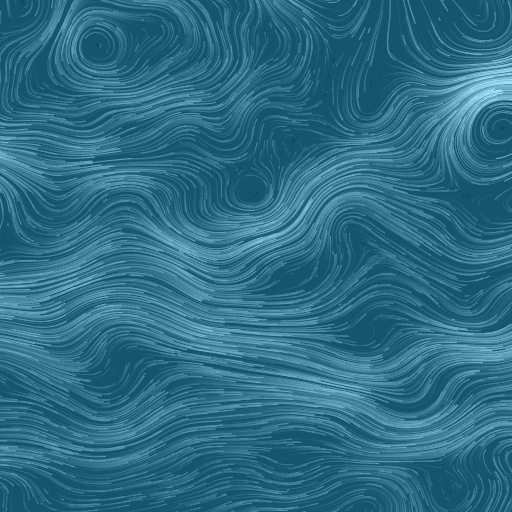eddy: (59, 8, 138, 83), (228, 170, 274, 211), (477, 102, 511, 149)
